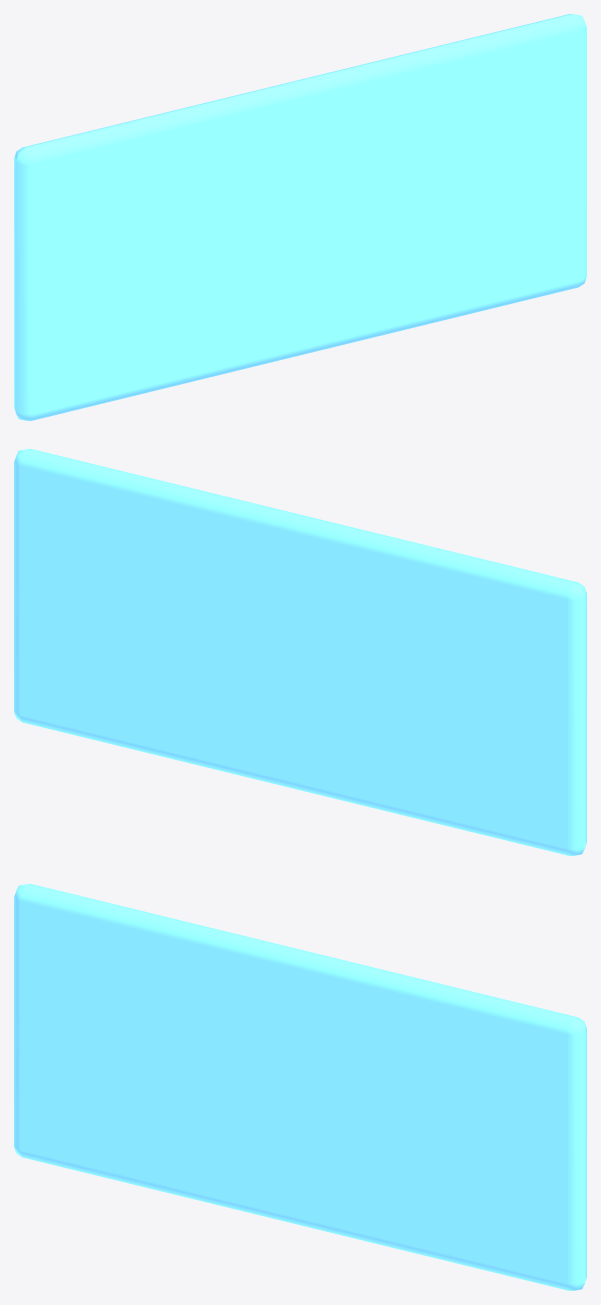
Rendered from SEDAN_Curved_OLED_Infotainment_T_77.glb.
3 views of the same model, one above another, from view 1: azimuth 30°, elevation 25°; view 2: azimuth 150°, elevation 25°; view 3: azimuth 330°, elevation 25° (orthographic).
Visible parts, largest first — view 1: SEDAN_Curved_OLED_Infotainment_Touchscreen; view 2: SEDAN_Curved_OLED_Infotainment_Touchscreen; view 3: SEDAN_Curved_OLED_Infotainment_Touchscreen.
Boxes of the visible parts, x1,y1,x2,y2 form: SEDAN_Curved_OLED_Infotainment_Touchscreen: (14, 14, 586, 420); SEDAN_Curved_OLED_Infotainment_Touchscreen: (14, 449, 586, 855); SEDAN_Curved_OLED_Infotainment_Touchscreen: (14, 884, 586, 1290).
Size of the model in its own units: 0.48 by 0.22 by 0.02.
